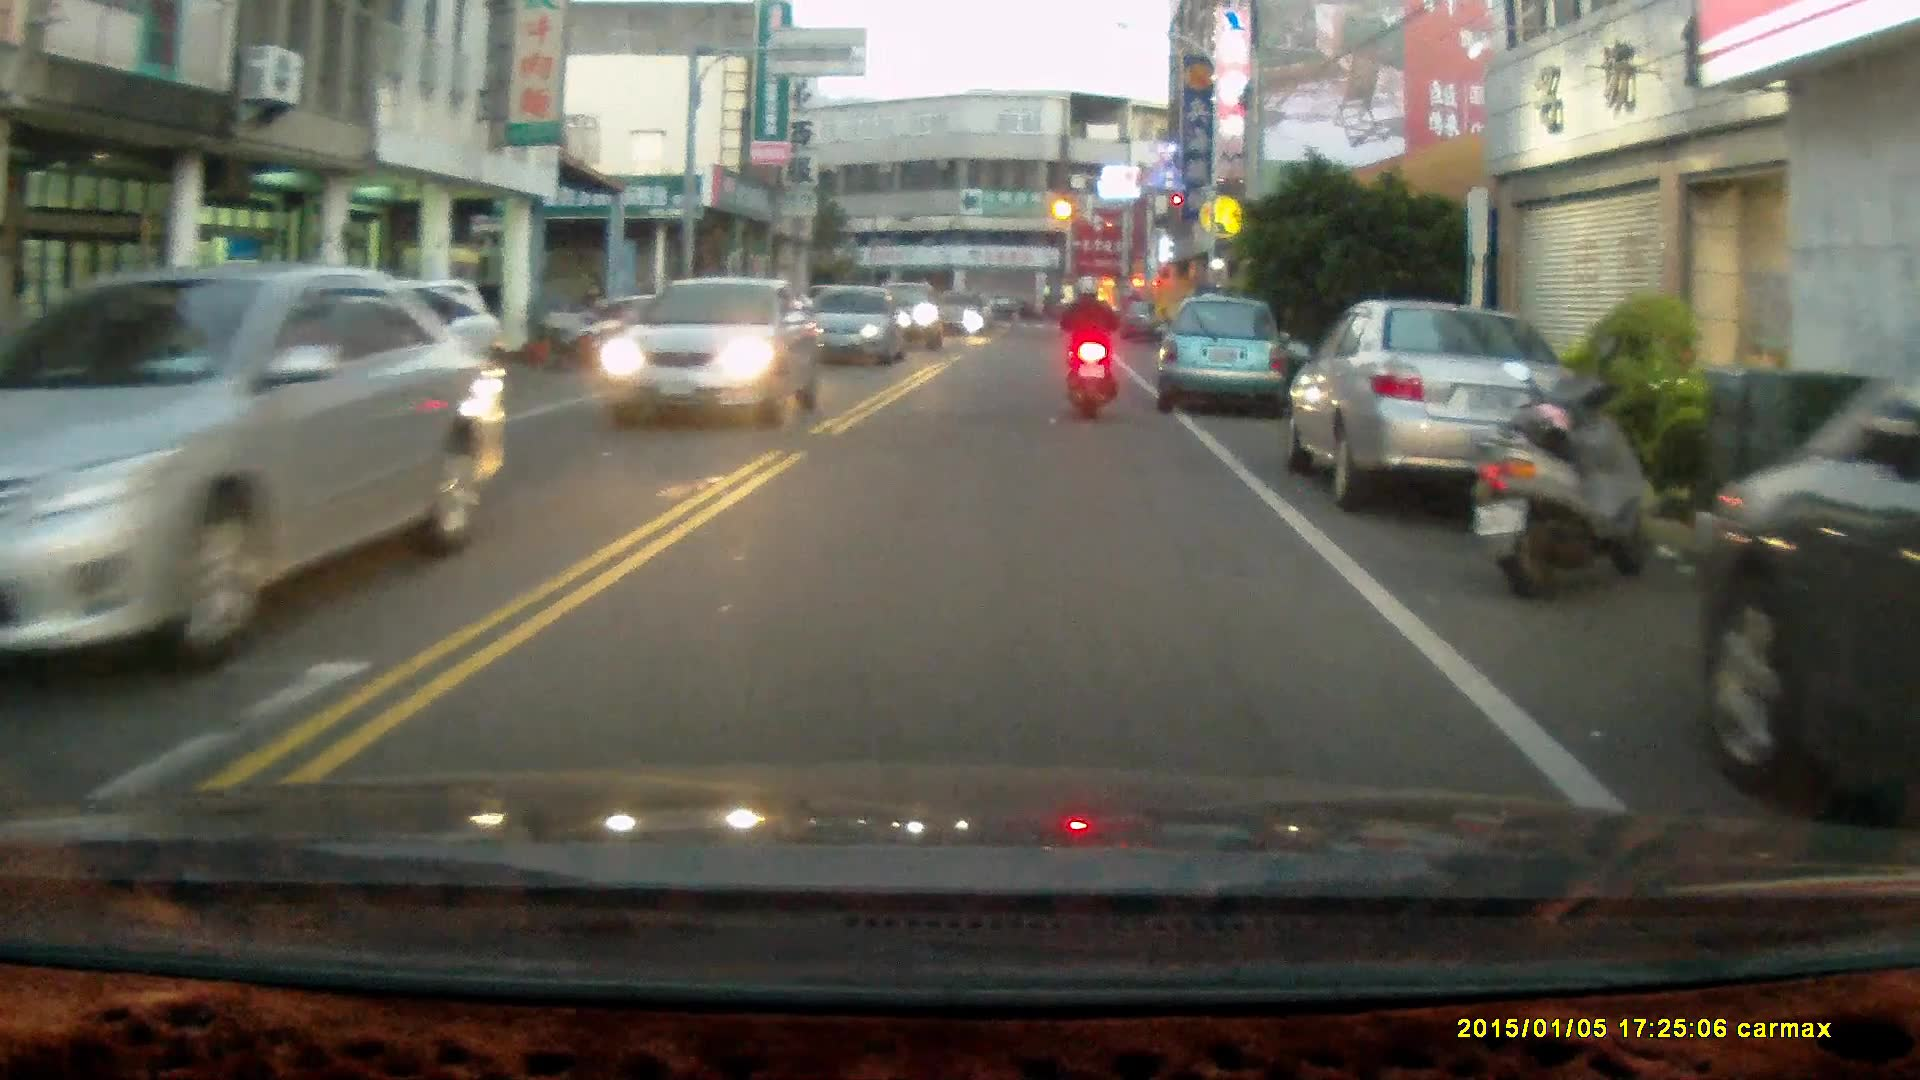rider: (1058, 271, 1119, 421)
vehicle: (1, 261, 512, 678), (1691, 360, 1920, 808), (1282, 296, 1582, 509), (601, 274, 825, 423), (1152, 294, 1291, 420), (799, 282, 912, 368)
